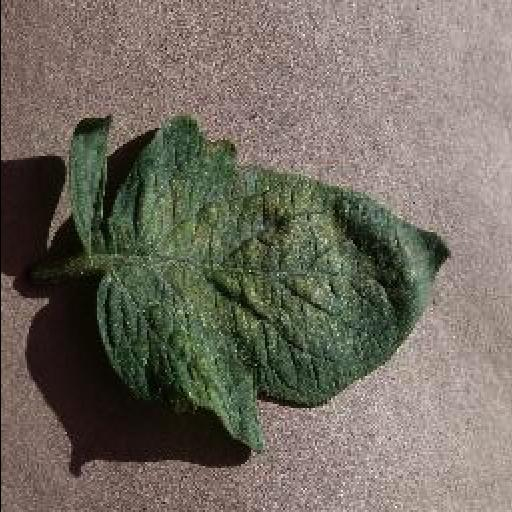disease_tomato: (94, 112, 454, 454)
